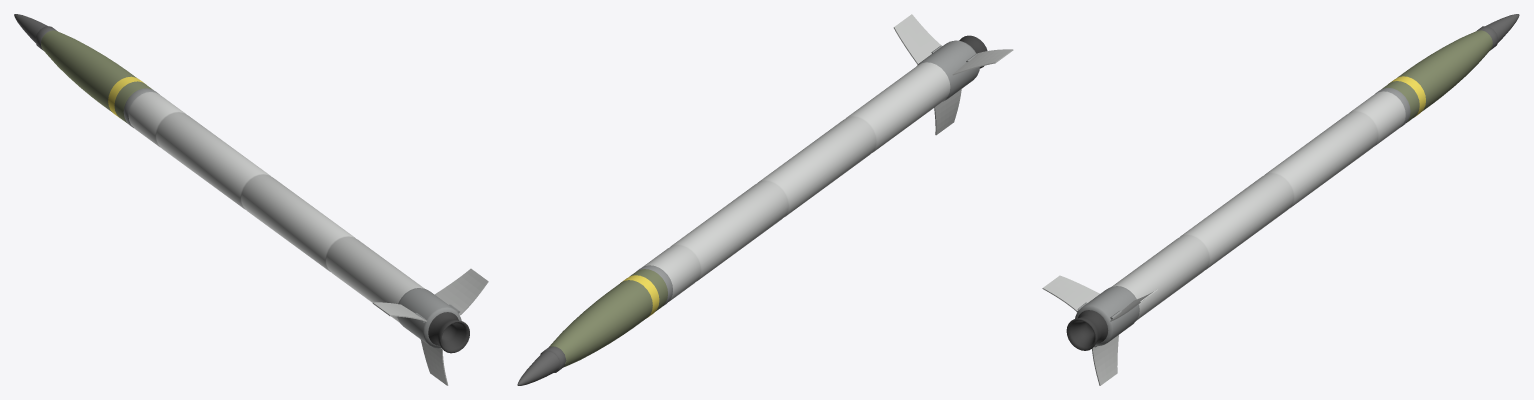
File: w_nar_hydra.glb
3 views of the same model, side by side, from view 1: azimuth 30°, elevation 25°; view 2: azimuth 150°, elevation 25°; view 3: azimuth 330°, elevation 25° (orthographic). The views are drawn at different scales.
Visible parts, largest first — view 1: body|H70_motor, body|H70_warhead, body|H70_fin, body|H70_ring, body|H70_nozzle, body|H70_fuze; view 2: body|H70_motor, body|H70_warhead, body|H70_fin, body|H70_ring, body|H70_fuze; view 3: body|H70_motor, body|H70_warhead, body|H70_fin, body|H70_ring, body|H70_nozzle, body|H70_fuze.
Boxes of the visible parts, x1,y1,x2,y2 form: body|H70_motor: (128,92,424,322); body|H70_warhead: (41,30,152,123); body|H70_fin: (372,268,488,385); body|H70_ring: (123,88,461,349); body|H70_nozzle: (428,312,469,353); body|H70_fuze: (14,14,57,50); body|H70_motor: (643,62,950,301); body|H70_warhead: (549,269,667,367); body|H70_fin: (893,14,1013,135); body|H70_ring: (636,40,979,306); body|H70_fuze: (517,346,566,385); body|H70_motor: (1111,91,1405,320); body|H70_warhead: (1381,30,1492,122); body|H70_fin: (1042,275,1157,385); body|H70_ring: (1075,88,1410,347); body|H70_nozzle: (1066,310,1108,350); body|H70_fuze: (1477,14,1519,50).
Bounding box in the file's own units: 0.1884 × 0.1727 × 1.45.
